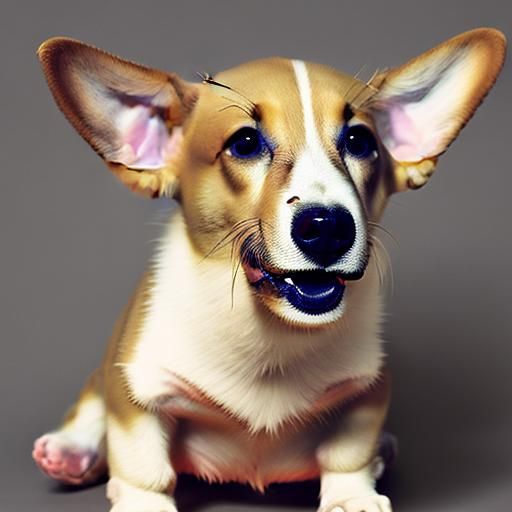eye: (214, 128, 282, 163), (331, 125, 383, 166)
